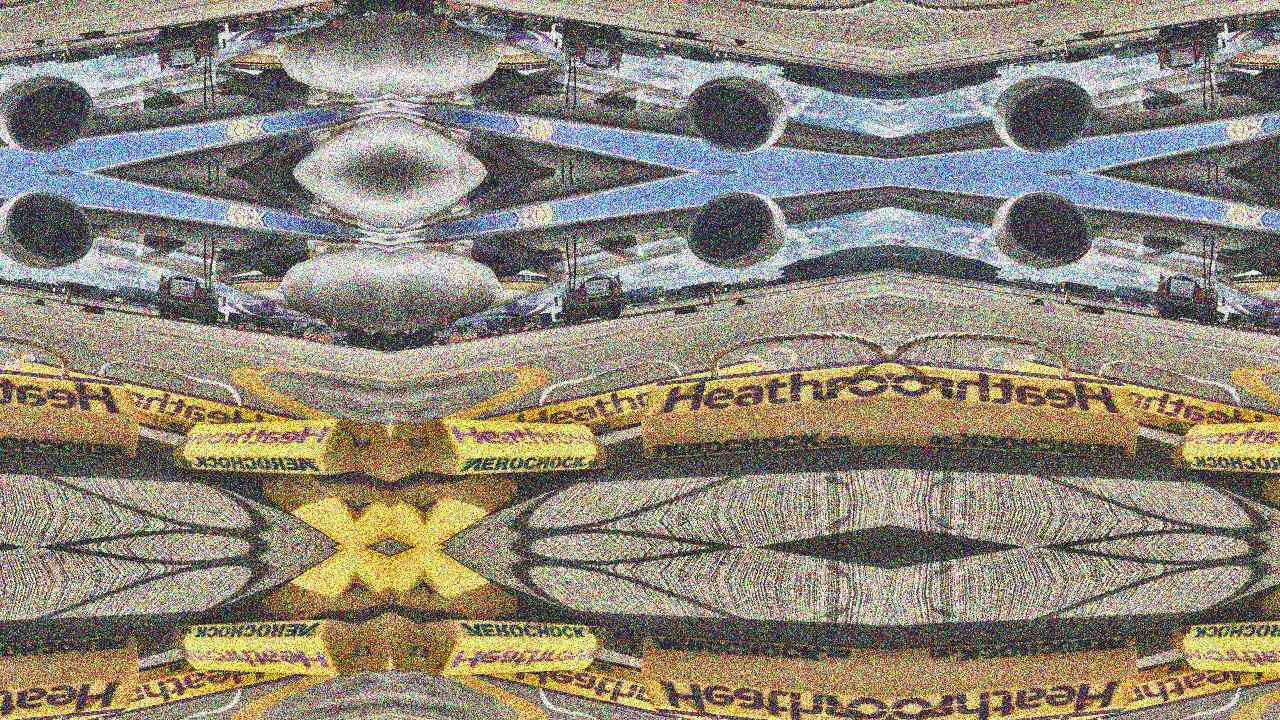chock: (626, 336, 890, 480), (890, 336, 1154, 480), (8, 357, 321, 452), (459, 357, 772, 452), (626, 614, 890, 720), (890, 614, 1154, 720), (1008, 357, 1280, 452), (8, 643, 321, 720), (459, 643, 772, 720), (0, 336, 154, 480), (1008, 643, 1280, 720), (162, 395, 367, 490), (413, 395, 618, 490), (162, 605, 367, 700), (413, 605, 618, 700), (0, 614, 154, 720), (1162, 395, 1280, 490), (1162, 605, 1280, 700), (250, 462, 365, 546), (415, 462, 530, 546), (250, 549, 365, 632), (415, 549, 530, 632), (353, 420, 390, 510), (390, 420, 427, 510), (353, 585, 390, 675), (390, 585, 427, 675), (347, 547, 390, 621), (390, 547, 433, 621), (347, 474, 390, 547), (390, 474, 433, 547), (1250, 462, 1280, 546), (1250, 549, 1280, 632), (626, 0, 890, 9), (890, 0, 1154, 9)
